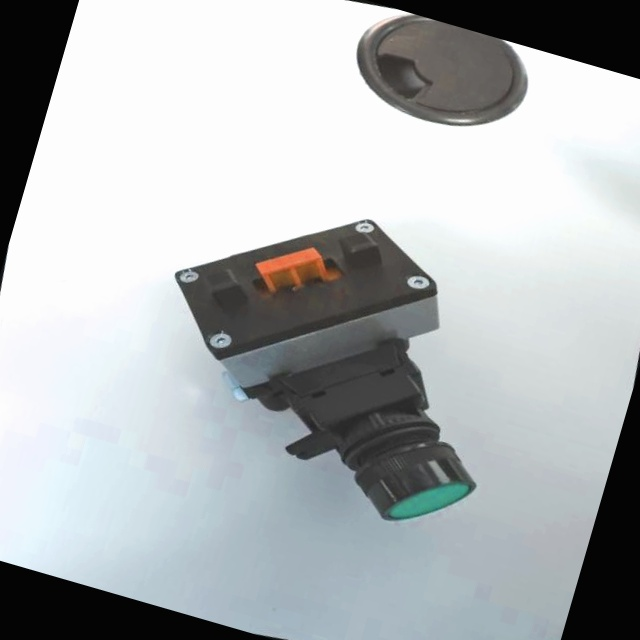push button: (108, 152, 550, 569)
